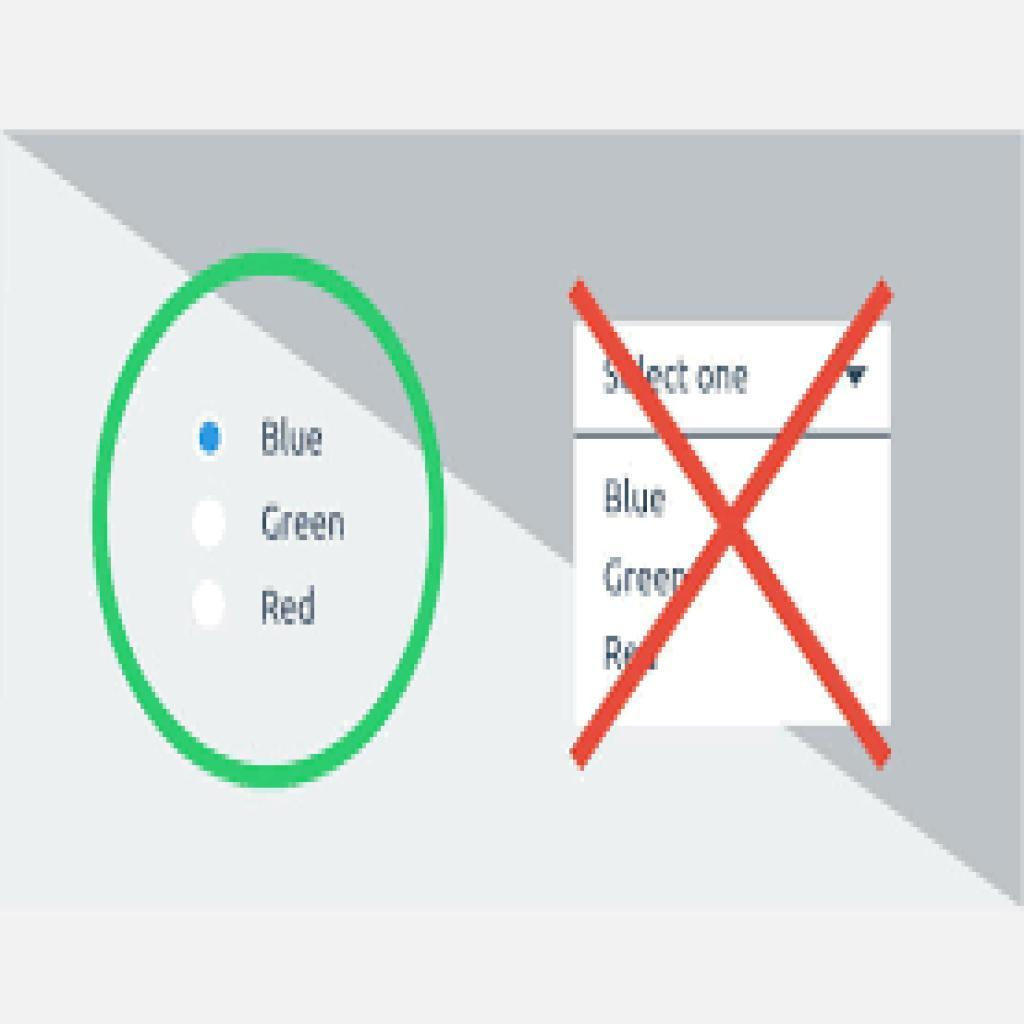label: (257, 502, 348, 547), (258, 415, 327, 464), (261, 587, 322, 631)
radio: (190, 579, 228, 635), (191, 496, 226, 553), (193, 409, 228, 463)
